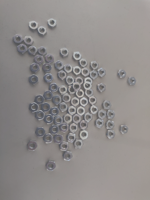nut: (45, 161, 57, 172), (26, 141, 37, 152), (62, 151, 73, 162), (53, 95, 63, 107), (50, 106, 60, 118), (47, 18, 57, 29), (28, 20, 39, 30), (35, 127, 46, 137), (43, 134, 53, 145), (29, 102, 39, 113), (28, 75, 39, 85), (28, 45, 38, 56), (44, 72, 54, 83), (42, 62, 52, 73), (69, 123, 79, 134), (106, 110, 116, 121), (89, 95, 98, 107), (37, 26, 47, 36), (60, 123, 70, 133), (24, 36, 34, 46), (30, 63, 40, 73), (34, 54, 44, 64), (35, 95, 45, 105), (40, 103, 50, 113), (45, 115, 55, 125), (63, 114, 73, 124), (106, 120, 116, 130), (83, 81, 93, 91), (65, 75, 75, 85), (84, 78, 94, 88), (60, 141, 69, 152), (80, 130, 89, 141), (13, 33, 22, 44), (55, 60, 64, 71), (73, 51, 82, 62), (44, 90, 53, 101), (59, 102, 68, 113), (55, 115, 64, 126), (80, 97, 89, 108), (102, 101, 113, 110), (76, 75, 85, 86), (118, 69, 127, 79), (128, 76, 137, 86), (97, 83, 106, 93), (120, 125, 129, 135), (106, 129, 115, 139), (95, 119, 104, 129), (67, 133, 76, 143), (17, 44, 26, 54), (64, 64, 73, 74), (58, 70, 67, 80), (35, 112, 45, 121), (79, 121, 89, 130), (71, 98, 81, 107), (68, 85, 77, 95), (62, 94, 72, 103), (98, 110, 107, 120), (73, 114, 82, 124), (82, 67, 90, 78), (91, 104, 99, 115), (74, 140, 83, 149), (45, 54, 54, 63), (73, 66, 82, 75), (77, 107, 86, 116), (55, 135, 63, 145), (61, 47, 69, 57), (39, 46, 47, 56), (49, 84, 59, 92), (80, 58, 88, 68), (59, 85, 67, 95), (99, 67, 106, 78), (91, 61, 99, 70), (91, 70, 99, 79), (69, 106, 76, 116), (74, 82, 81, 92), (76, 90, 84, 98), (86, 90, 94, 96)
